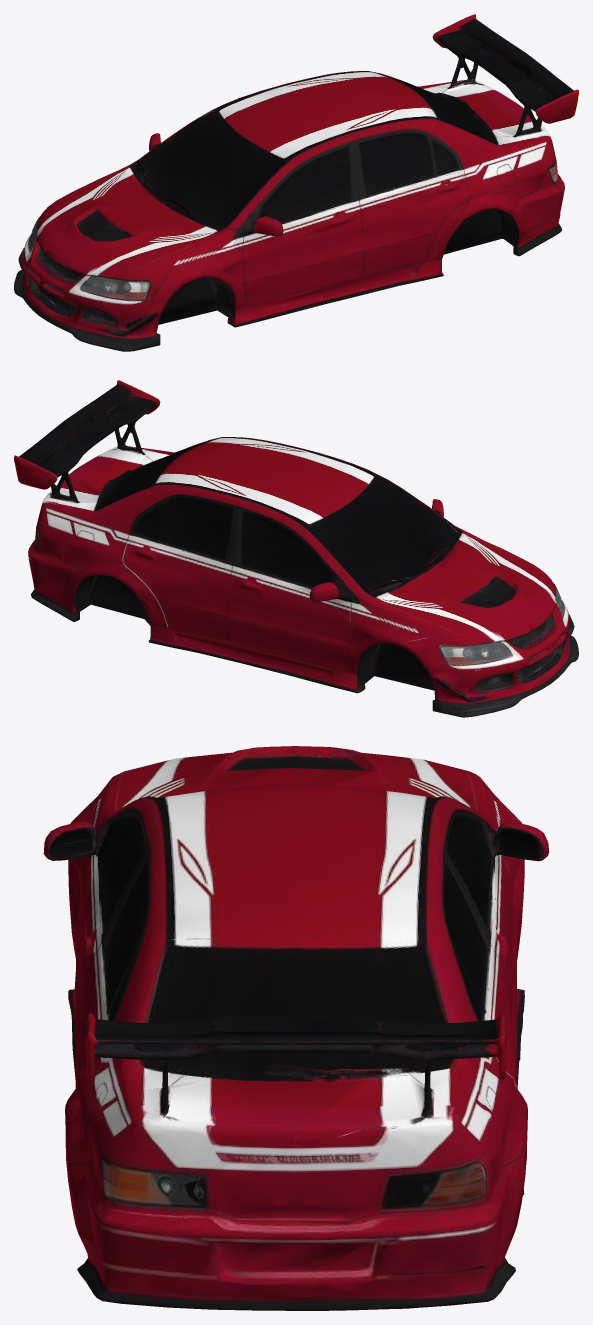
File: car_toro.glb
3 views of the same model, one above another, from view 1: azimuth 30°, elevation 25°; view 2: azimuth 150°, elevation 25°; view 3: azimuth 270°, elevation 25° (orthographic). The views are drawn at different scales.
Parts seen in each view (by area): view 1: Mesh_0; view 2: Mesh_0; view 3: Mesh_0.
Part boxes in pixels (bbox=[...]): Mesh_0: bbox=[14, 14, 578, 351]; Mesh_0: bbox=[14, 380, 578, 717]; Mesh_0: bbox=[43, 746, 549, 1310].
Size of the model in its own units: 1.9 by 0.5594 by 0.846.
Materials: 1 (1 with a texture image).
